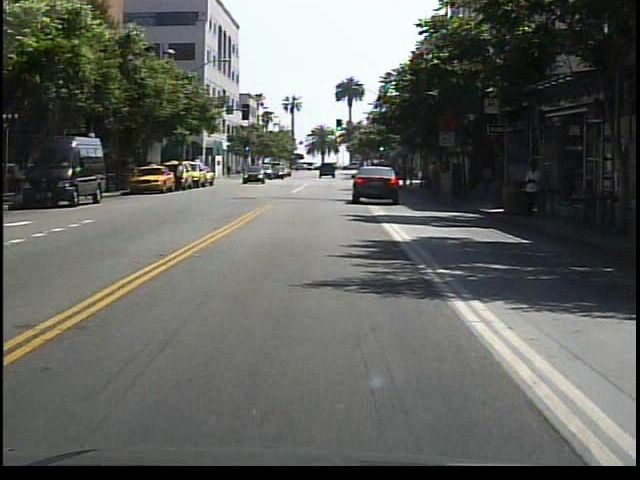person: (521, 152, 553, 224), (173, 159, 188, 195)
